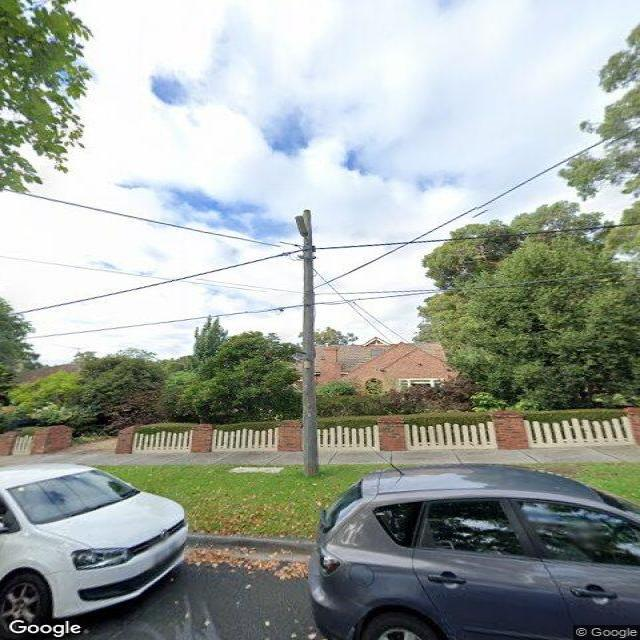streetlight: (292, 215, 316, 249)
timber-pole: (294, 207, 320, 471)
